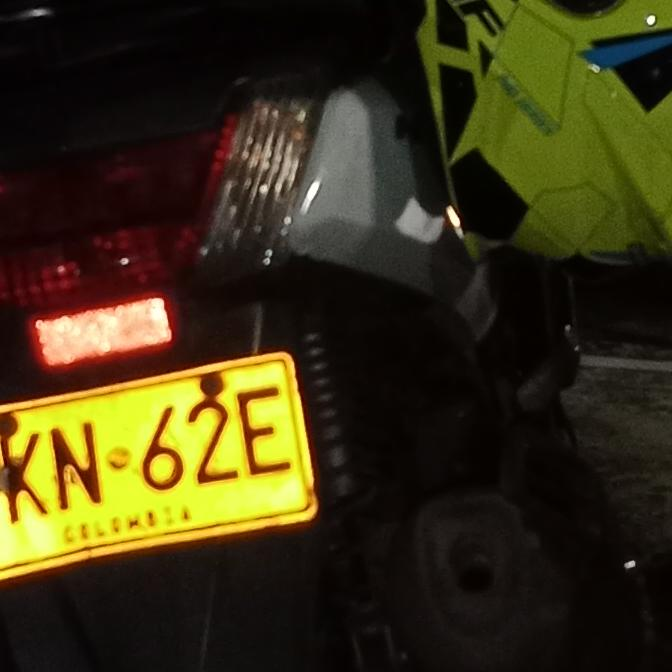plates: (0, 342, 314, 576)
